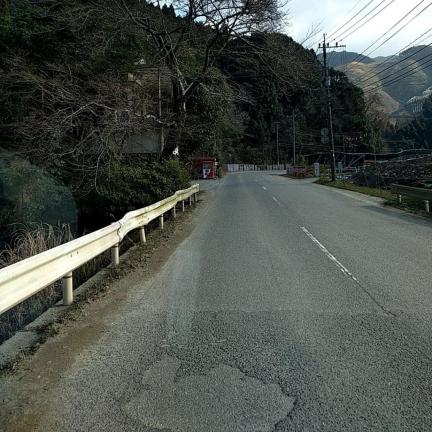Road: (28, 173, 431, 431)
